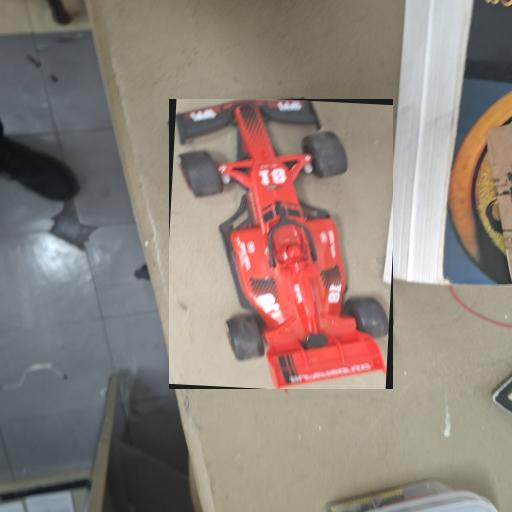carro: (169, 99, 392, 388)
